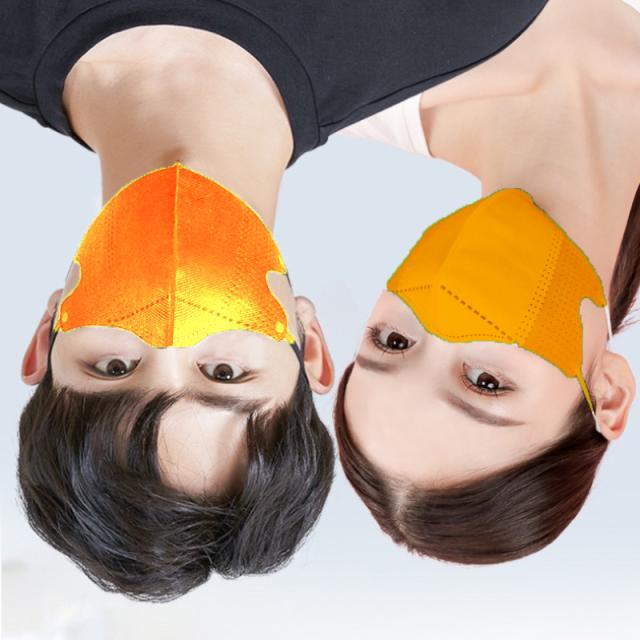mask: (42, 158, 307, 356), (382, 182, 612, 391)
